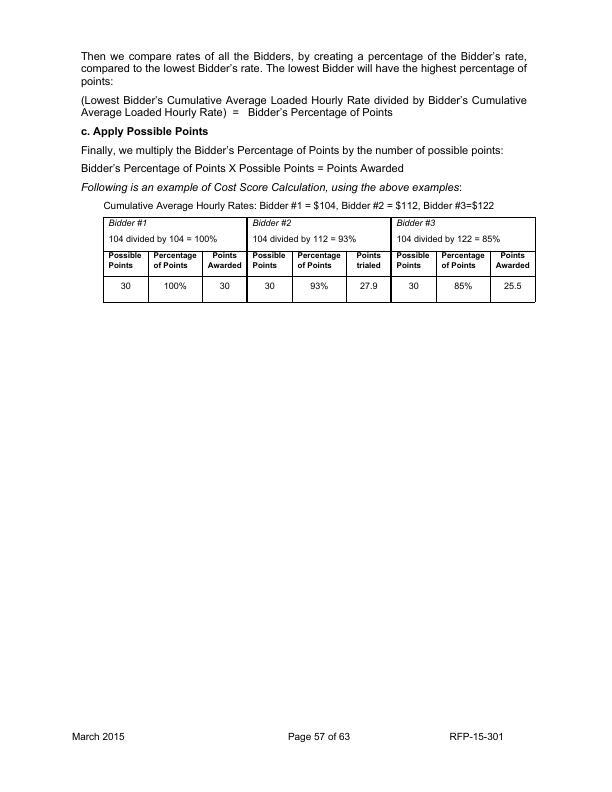table: (99, 214, 539, 307)
text: (76, 44, 537, 212)
